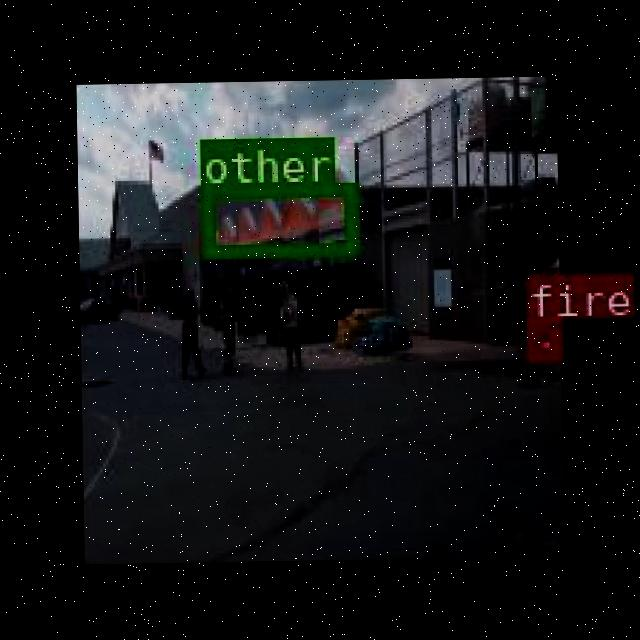fire: (524, 316, 559, 358)
